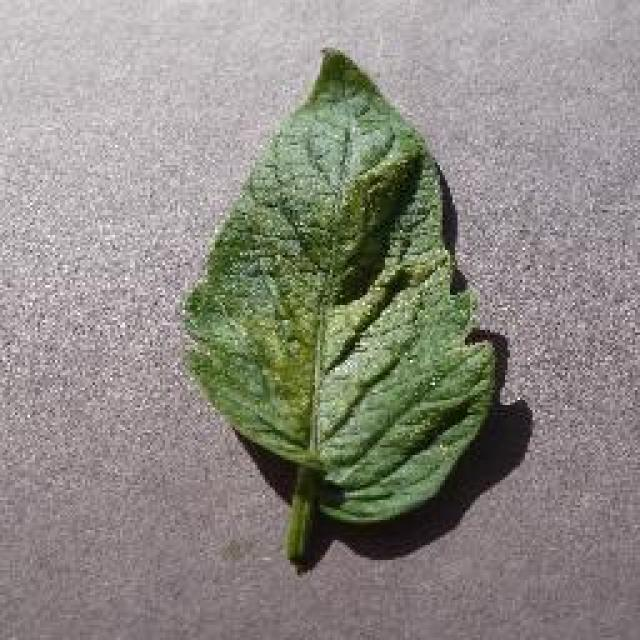Tomato___Spider_mites Two-spotted_spider_mite: (185, 50, 498, 562)
